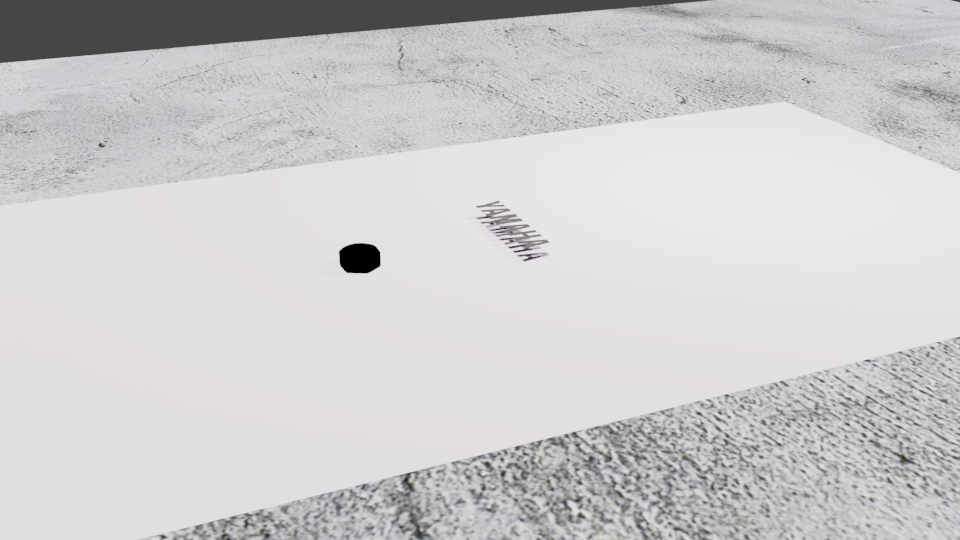yamaha_letters: (474, 200, 550, 249)
